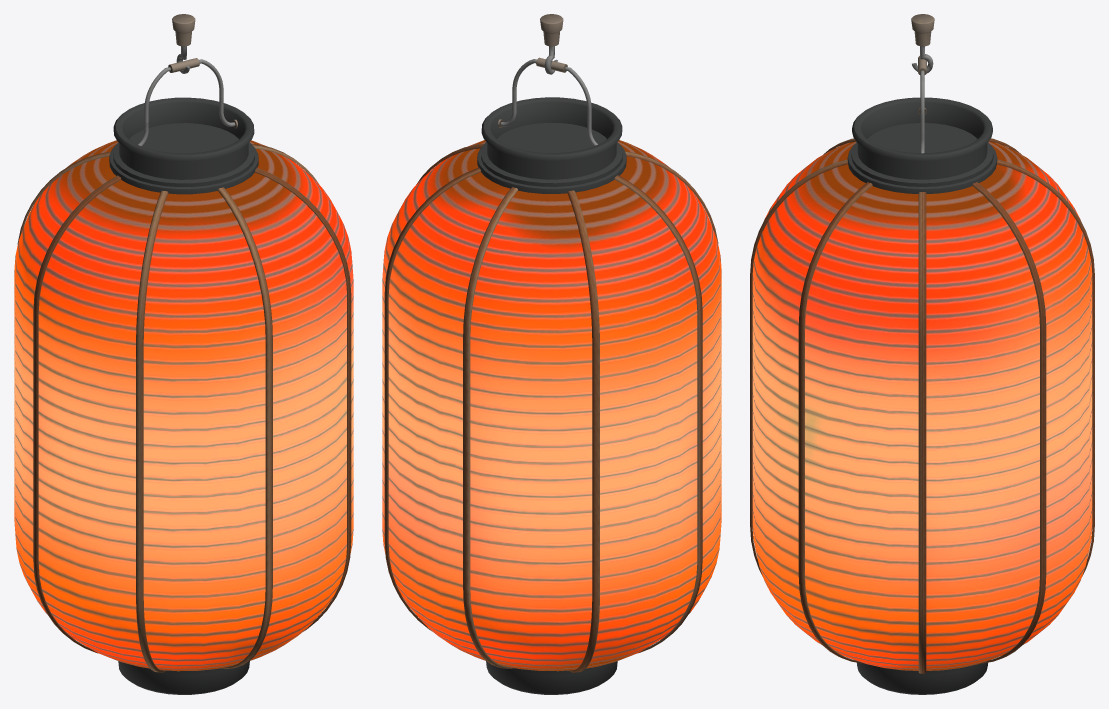
3 views of the same model, side by side, from view 1: azimuth 30°, elevation 25°; view 2: azimuth 150°, elevation 25°; view 3: azimuth 270°, elevation 25° (orthographic).
Visible parts, largest first — view 1: Big_Chochin_M__0; view 2: Big_Chochin_M__0; view 3: Big_Chochin_M__0.
Part boxes in pixels (<box>): Big_Chochin_M__0: <box>14,14,353,694</box>; Big_Chochin_M__0: <box>382,14,721,694</box>; Big_Chochin_M__0: <box>750,14,1094,694</box>.
Bounding box in the file's own units: 88.4 × 184 × 88.4.
1 material, 1 textured.
